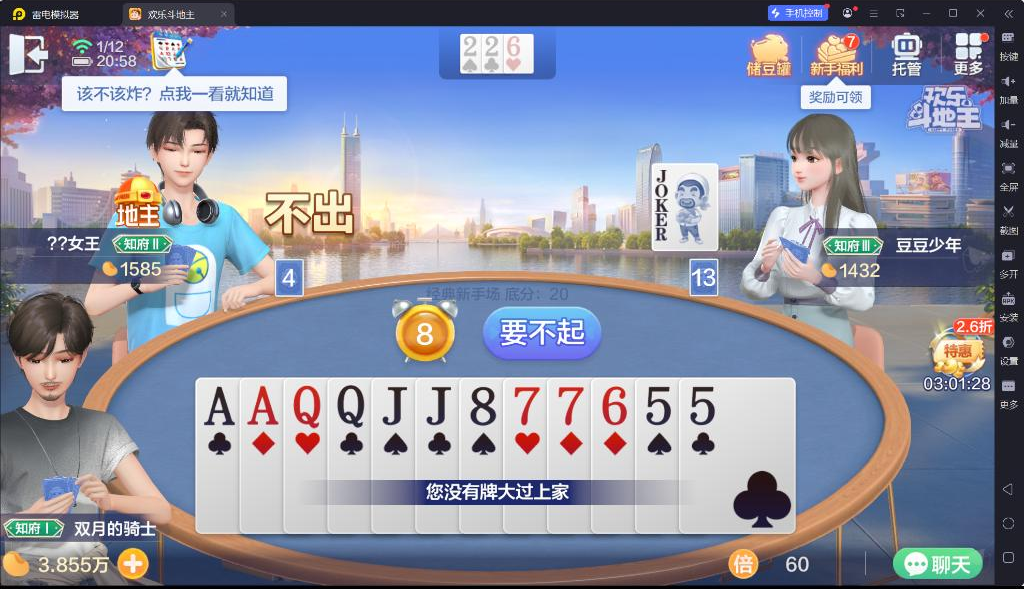A: (201, 384, 237, 430), (245, 383, 281, 429)
J: (376, 383, 410, 427), (422, 384, 453, 428)
Q: (290, 382, 325, 430), (335, 383, 367, 429)
eight: (468, 383, 499, 429)
five: (641, 383, 675, 427), (686, 382, 718, 428)
joker: (653, 166, 671, 211)
seven: (508, 382, 542, 428), (552, 382, 586, 428)
six: (598, 383, 629, 427), (505, 35, 522, 58)
two: (461, 35, 479, 58), (484, 35, 500, 58)
